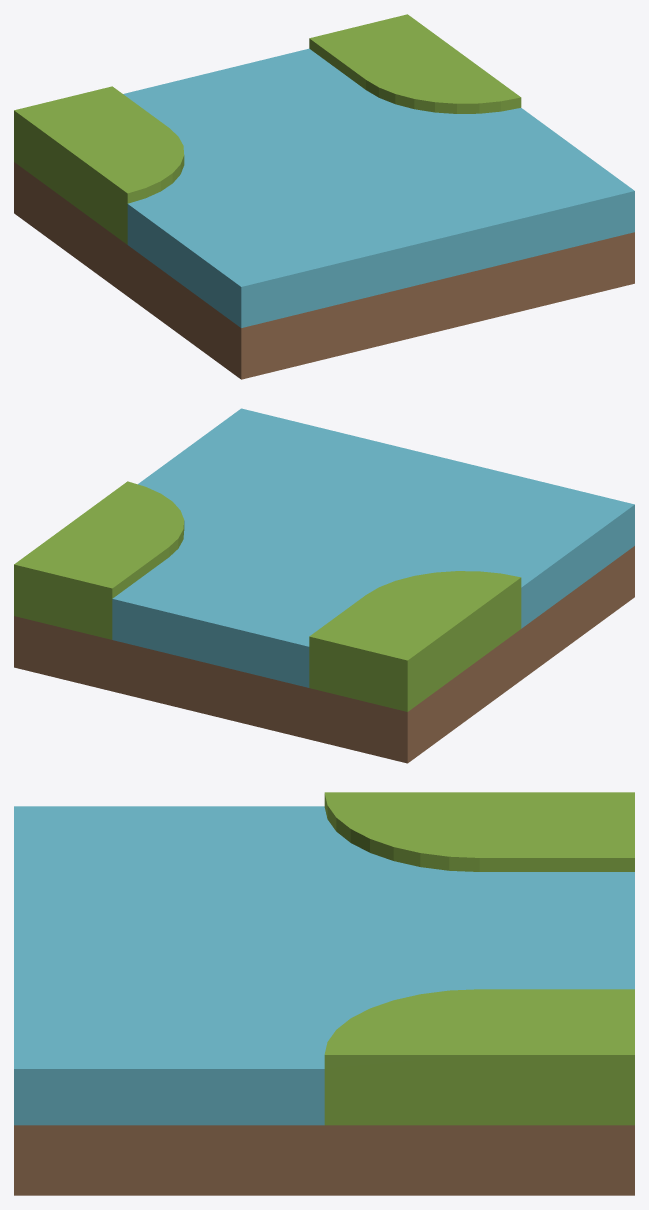
Rendered from water-river-junction.obj.
The picture shows the model from 3 angles, top to bottom: view 1: azimuth 30°, elevation 25°; view 2: azimuth 150°, elevation 25°; view 3: azimuth 270°, elevation 25°; orthographic projection. The views are drawn at different scales.
Parts seen in each view (by area): view 1: water-river-junction_Cube.201; view 2: water-river-junction_Cube.201; view 3: water-river-junction_Cube.201.
Part boxes in pixels (x1,y1,x2,y2): water-river-junction_Cube.201: (14,14,634,379); water-river-junction_Cube.201: (14,408,634,763); water-river-junction_Cube.201: (14,792,634,1195).
Bounding box in the file's own units: 8 × 2 × 8.
Materials: 1 (1 with a texture image).
